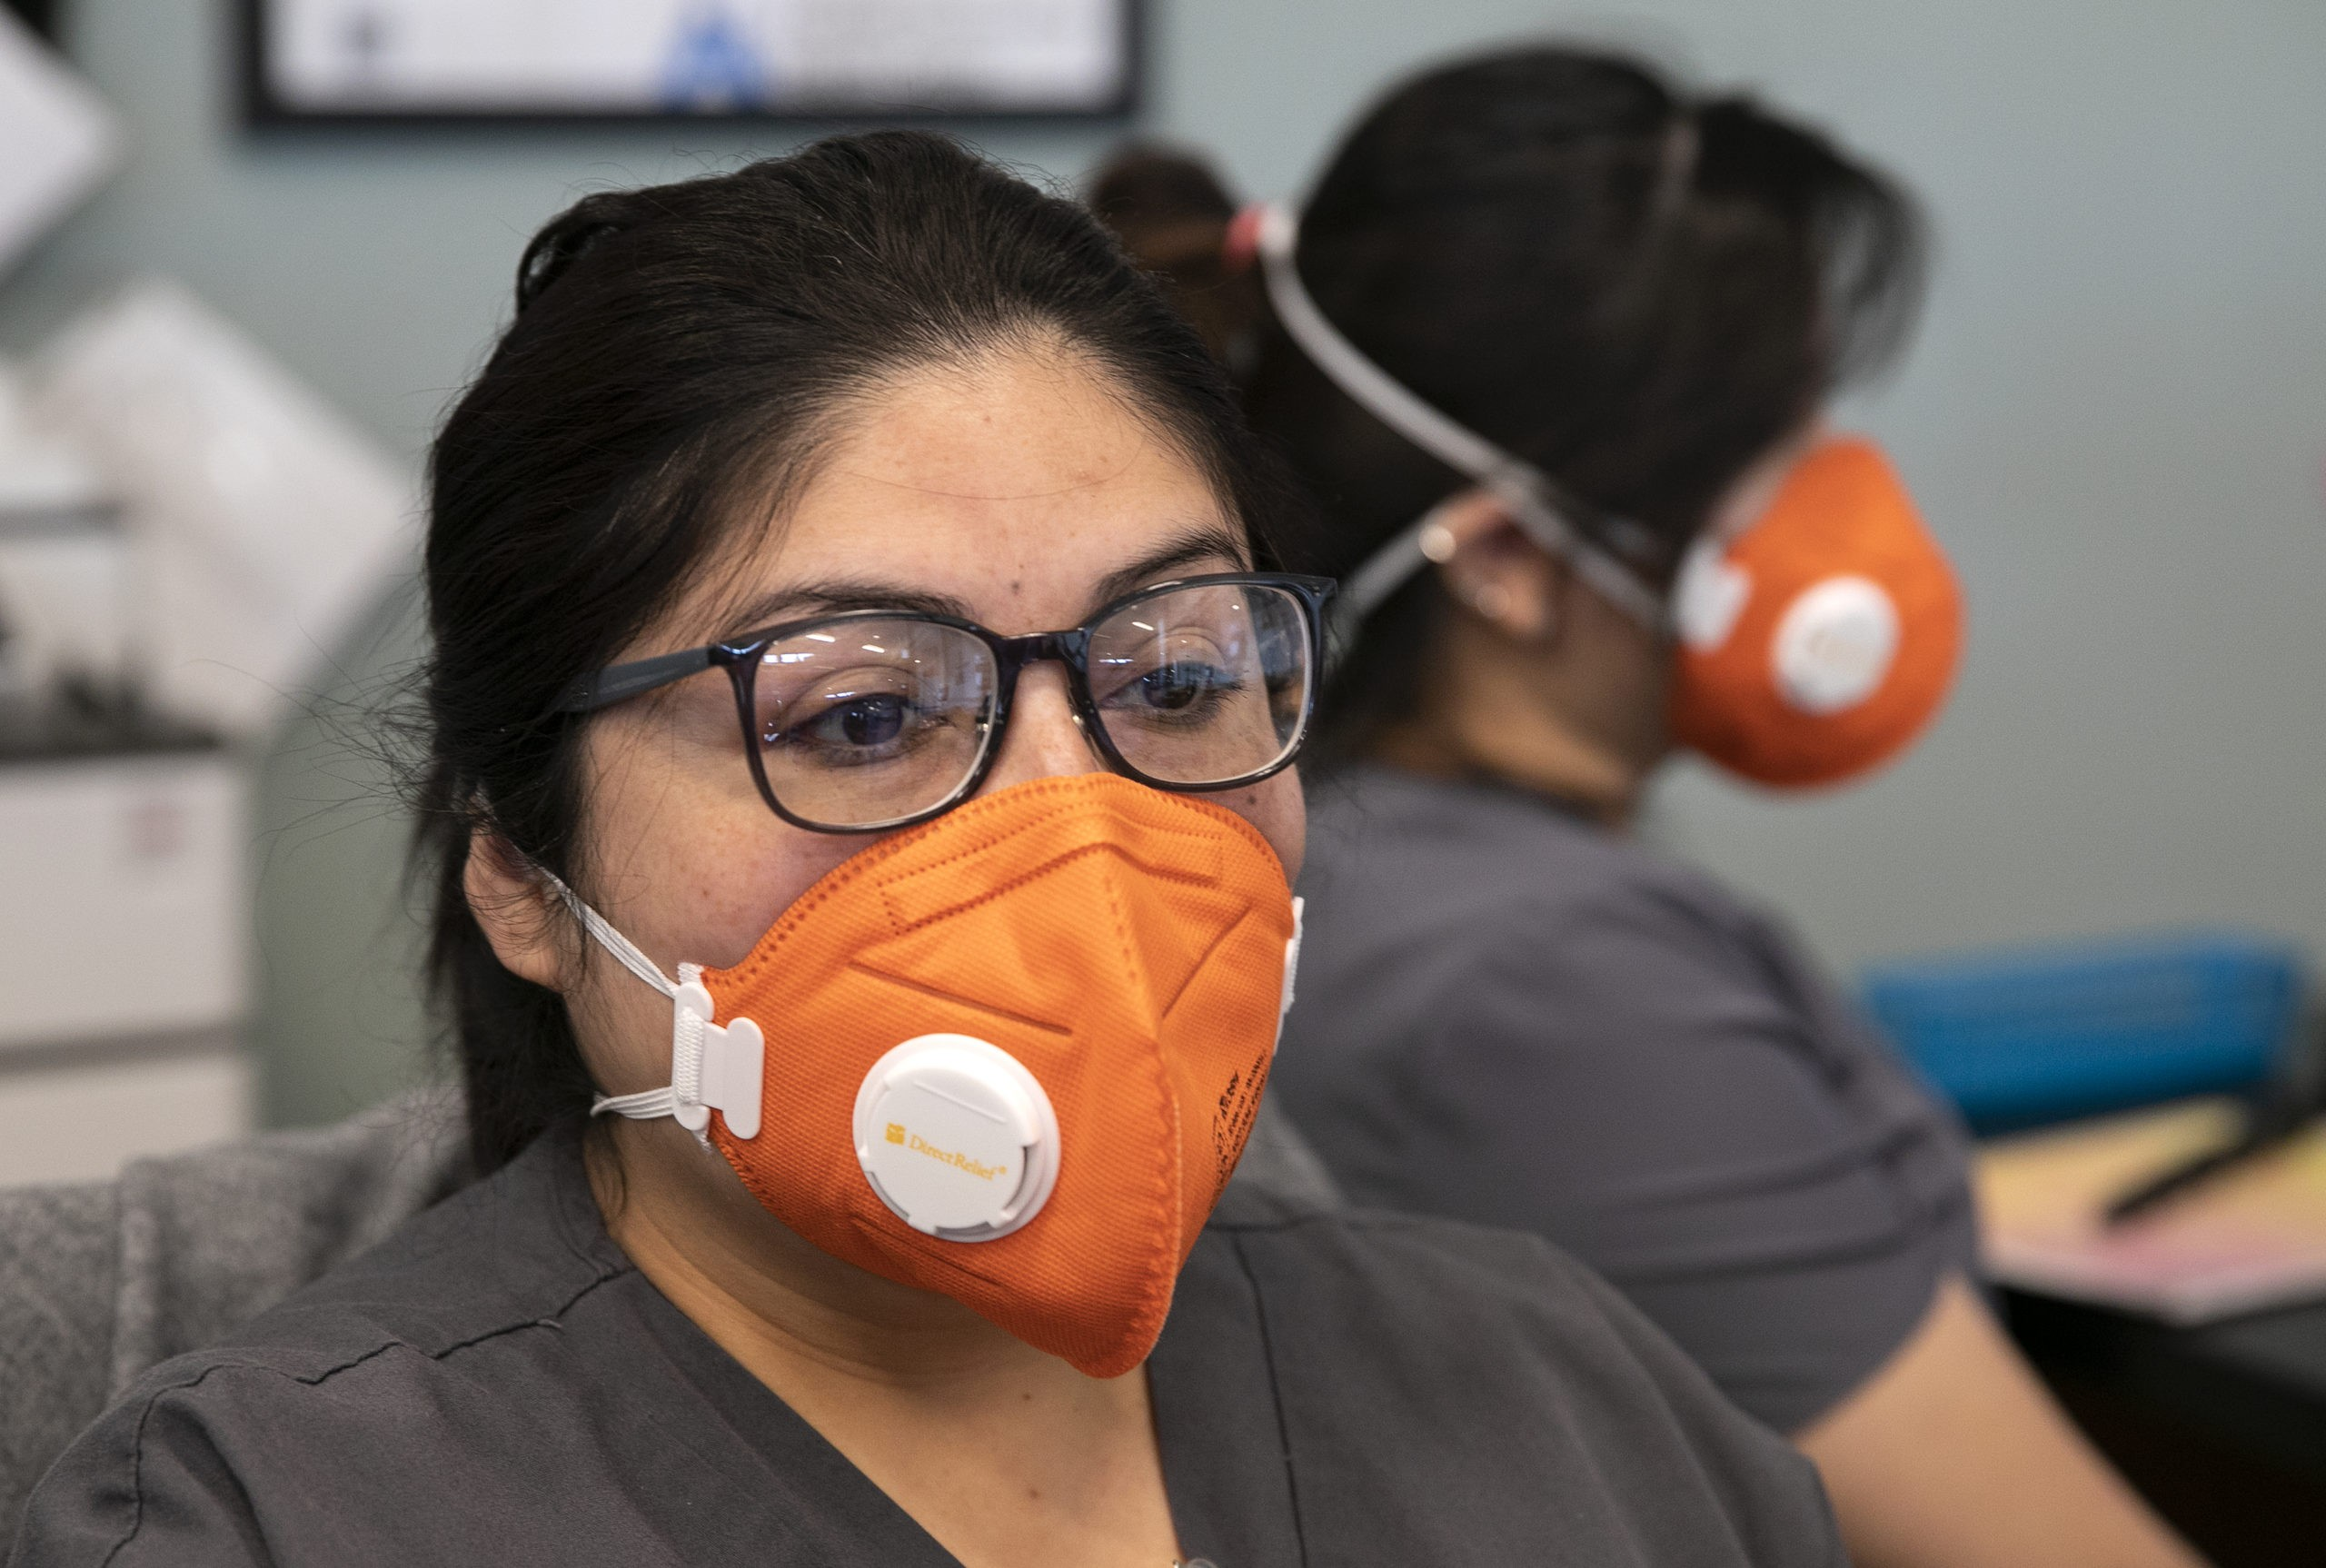with_mask: (698, 601, 1302, 1380), (1680, 364, 1973, 801)
